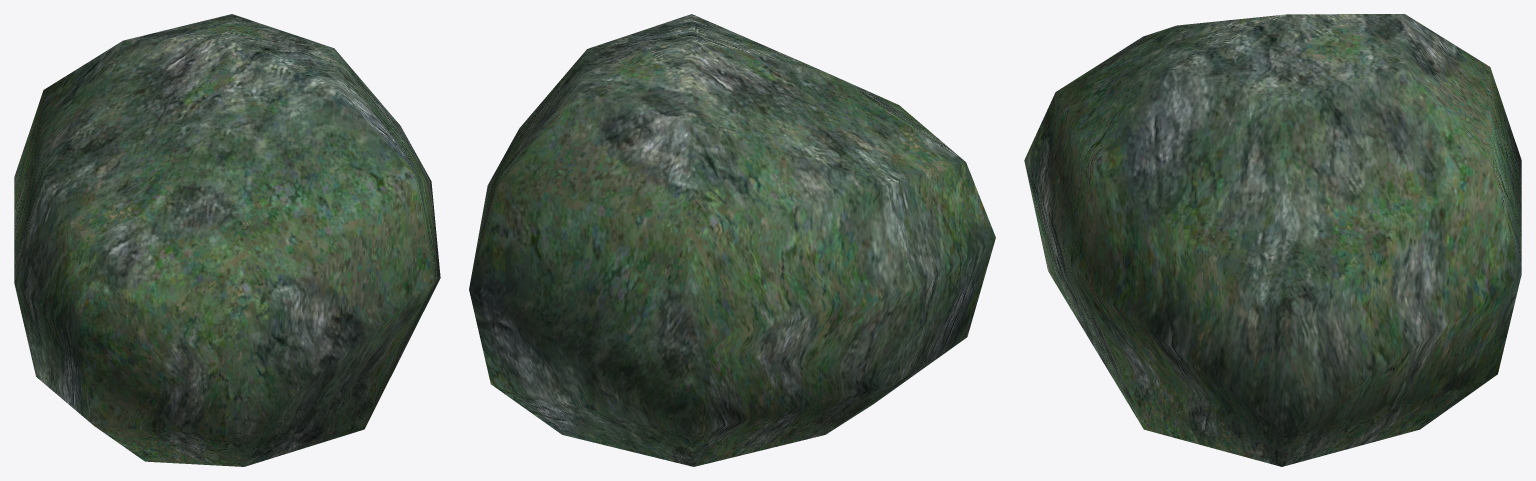
Rendered from rock_moss_blue_l2.fbx.
The picture shows the model from 3 angles, left to right: view 1: azimuth 30°, elevation 25°; view 2: azimuth 150°, elevation 25°; view 3: azimuth 270°, elevation 25°; orthographic projection. The views are drawn at different scales.
Visible parts, largest first — view 1: mesh_node; view 2: mesh_node; view 3: mesh_node.
Boxes of the visible parts, box(x1,y1,x2,y2) form: mesh_node: box(14, 14, 440, 466); mesh_node: box(469, 14, 995, 466); mesh_node: box(1024, 14, 1521, 466).
Size of the model in its own units: 7.46 by 5.85 by 6.92.
1 material, 1 textured.
